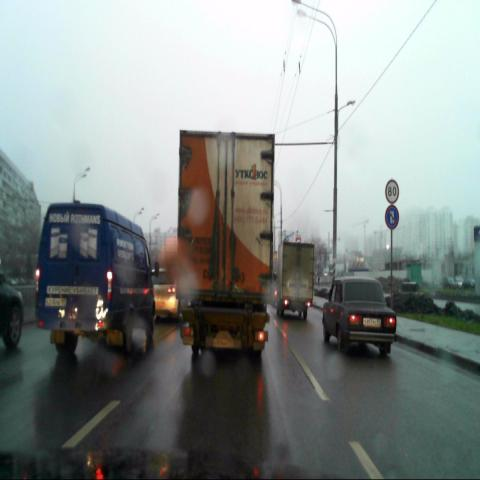3_30: (385, 205, 399, 230)
